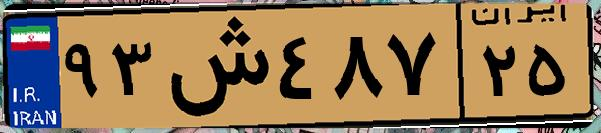2: (475, 38, 525, 113)
3: (110, 28, 158, 98)
4: (270, 28, 330, 110)
5: (525, 38, 570, 115)
7: (385, 28, 445, 110)
8: (330, 28, 385, 110)
9: (57, 26, 110, 100)
ش: (158, 12, 270, 120)
